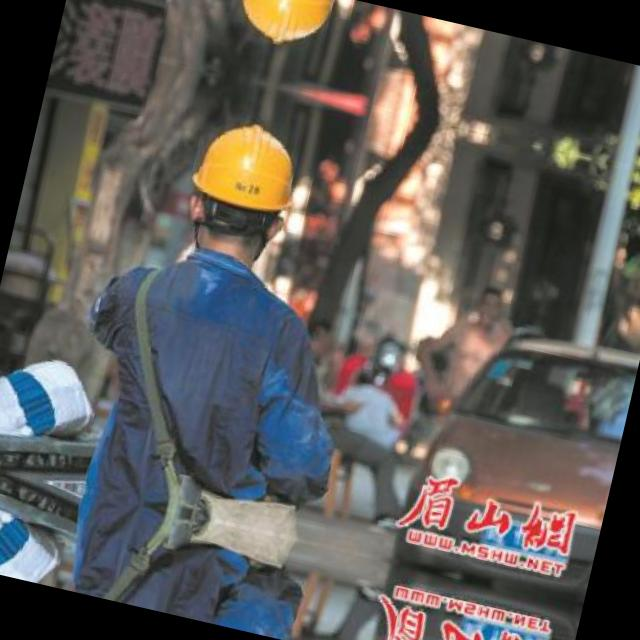helmet: (173, 102, 312, 268), (219, 0, 342, 63)
